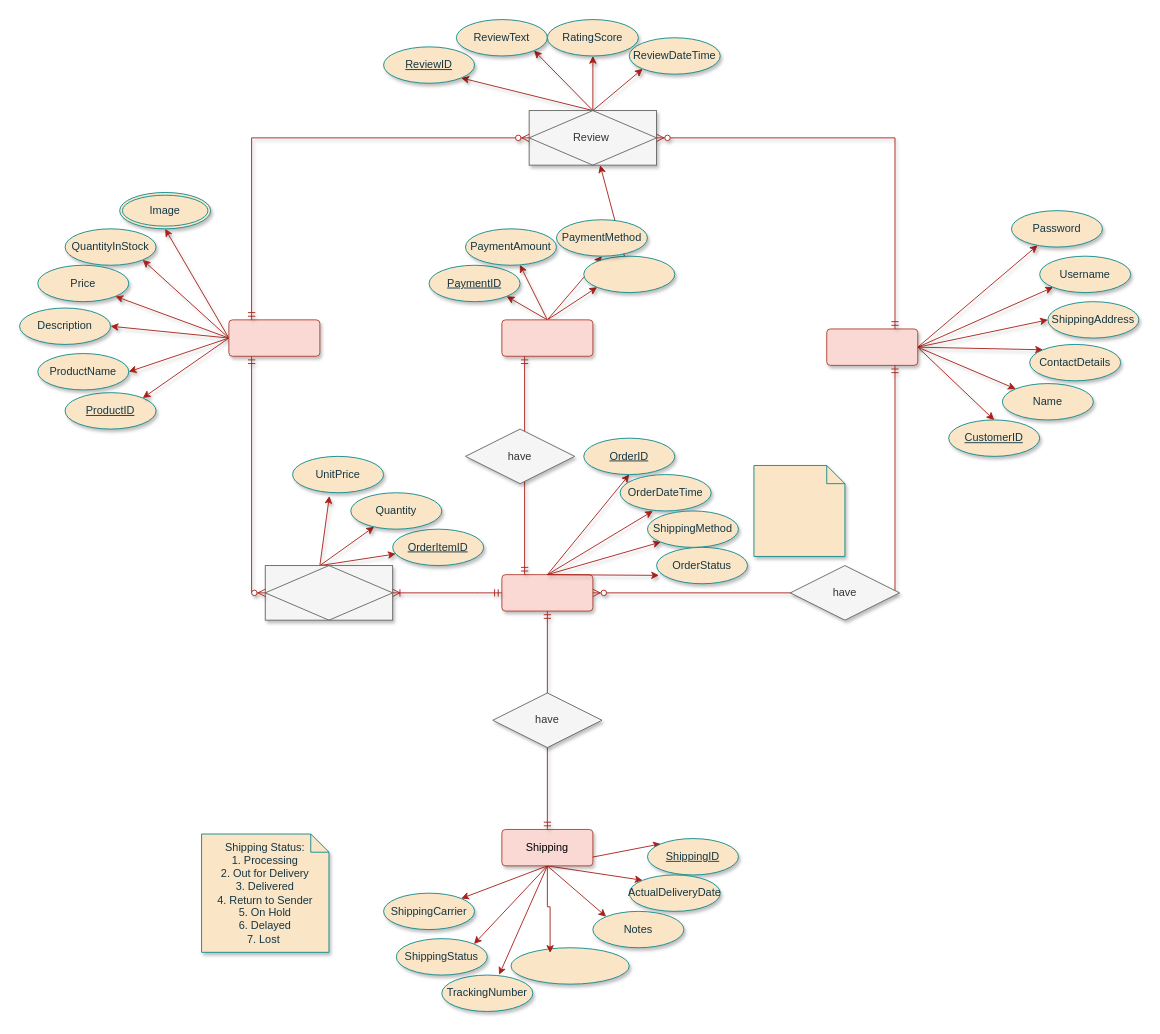
Image size: 1160x1034. Some labels were removed from this diagram. Each missing label, with the centre of its shape:
Customer: the point at 872,348
EstimatedDeliveryDate: the point at 570,967
haveOrderItem: the point at 329,594
Order: the point at 547,593
Order Status: Pending, Processing, Shipped, Delivered, Cancelled, Refunded.: the point at 799,512
Payment: the point at 547,339
PaymentDateTime: the point at 629,275
Product: the point at 274,339
